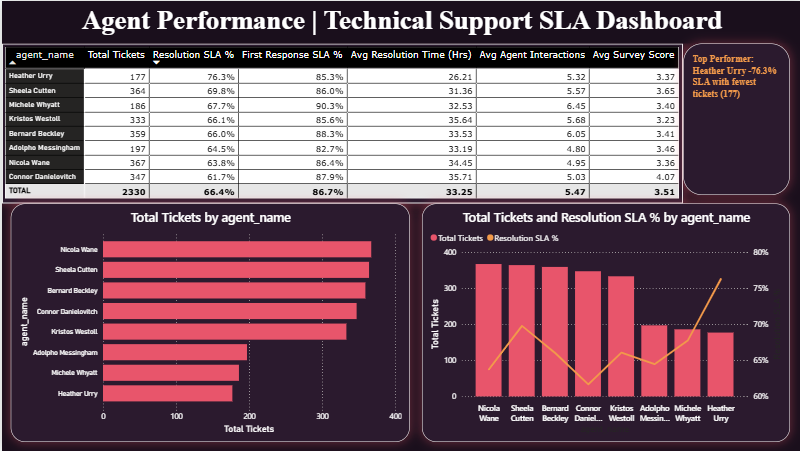

The page's visual inventory and layout, read from the dashboard file:
{"tool":"powerbi","page":{"name":"Agent Performance","canvas":[1280,720],"ordinal":1},"visuals":[{"type":"pivotTable","fields":{"Rows":["dim_agent.agent_name"],"Values":["fact_tickets.Total Tickets","fact_tickets.Resolution SLA %","fact_tickets.First Response SLA %","fact_tickets.Avg Resolution Time (Hrs)","fact_tickets.Avg Agent Interactions","fact_tickets.Avg Survey Score"]},"box":[0,68,1090,256],"z":0},{"type":"lineClusteredColumnComboChart","fields":{"Y":["fact_tickets.Total Tickets"],"Category":["dim_agent.agent_name"],"Y2":["fact_tickets.Resolution SLA %"]},"box":[671.4,324.3,588.6,381.4],"z":1000},{"type":"textbox","box":[0,0,1280,68],"z":2000},{"type":"clusteredBarChart","fields":{"Category":["dim_agent.agent_name"],"Y":["fact_tickets.Total Tickets"]},"box":[14.3,324.3,638.6,381.4],"z":3000},{"type":"textbox","box":[1090,68,170,242],"z":4000}]}

Visuals, with their boxes in screenshot pixels (x1, y1, x2, y2), scaled from the page's 1280x720 canvas onto the 800x451 screenshot:
pivotTable - dim_agent.agent_name x fact_tickets.Total Tickets: 0 43 681 203
lineClusteredColumnComboChart - fact_tickets.Total Tickets x dim_agent.agent_name: 420 203 788 442
textbox: 0 0 799 43
clusteredBarChart - dim_agent.agent_name x fact_tickets.Total Tickets: 9 203 408 442
textbox: 681 43 788 194
